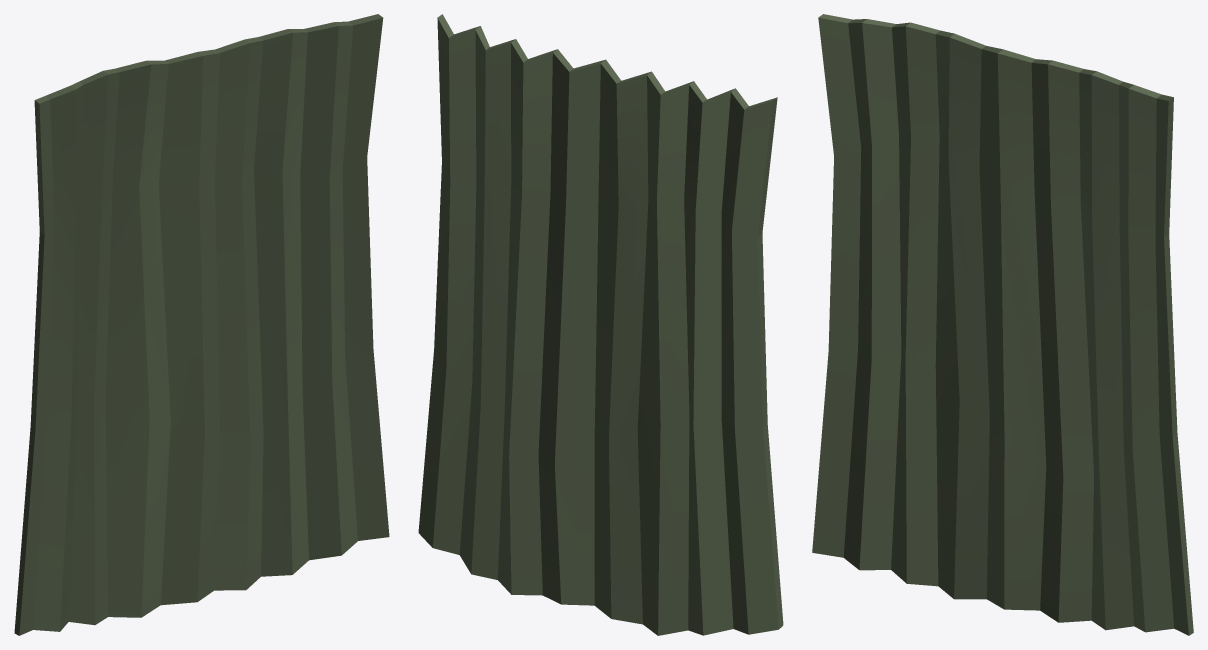
File: SM_Prop_Curtain_02.fbx
3 views of the same model, side by side, from view 1: azimuth 30°, elevation 25°; view 2: azimuth 150°, elevation 25°; view 3: azimuth 330°, elevation 25° (orthographic). The views are drawn at different scales.
Visible parts, largest first — view 1: SM_Prop_Curtain_02; view 2: SM_Prop_Curtain_02; view 3: SM_Prop_Curtain_02.
Part boxes in pixels (left/top/right/bottom): SM_Prop_Curtain_02: left=14, top=14, right=389, bottom=635; SM_Prop_Curtain_02: left=418, top=14, right=783, bottom=635; SM_Prop_Curtain_02: left=812, top=14, right=1193, bottom=635.
Size of the model in its own units: 147 by 212 by 20.26.
Materials: 1 (1 with a texture image).
